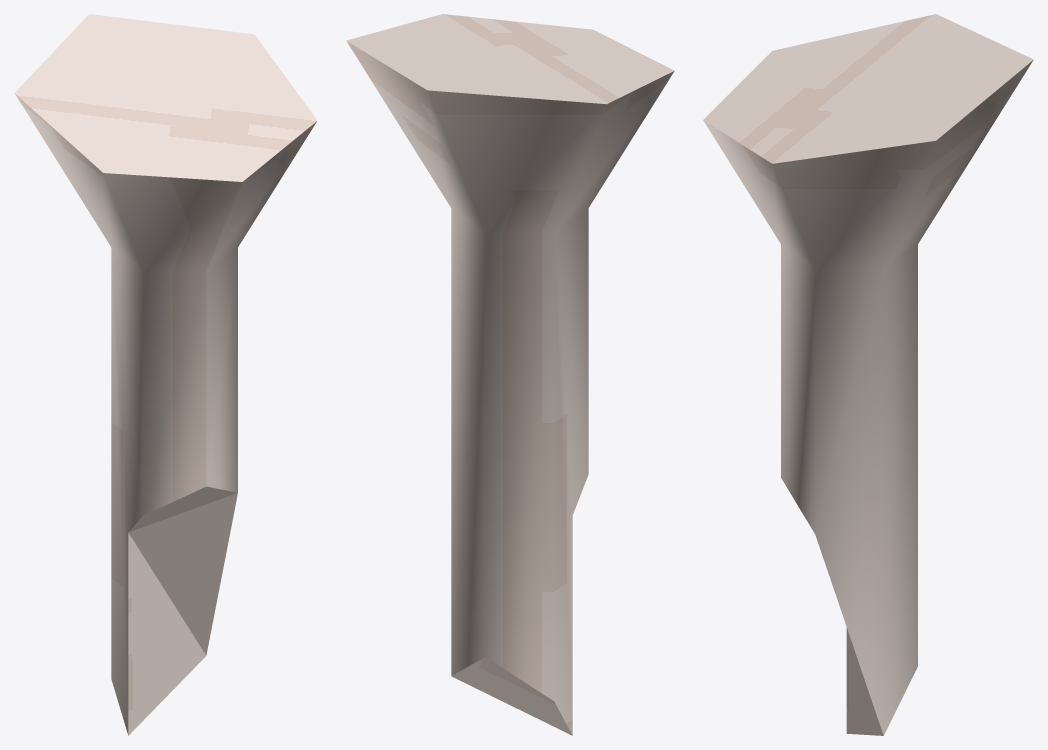
File: wine_glass_gib_05.glb
The picture shows the model from 3 angles, left to right: view 1: azimuth 30°, elevation 25°; view 2: azimuth 150°, elevation 25°; view 3: azimuth 270°, elevation 25°; orthographic projection. The views are drawn at different scales.
Parts seen in each view (by area): view 1: gib_05; view 2: gib_05; view 3: gib_05.
Boxes of the visible parts, box(x1,y1,x2,y2) form: gib_05: box(14, 14, 317, 735); gib_05: box(346, 14, 674, 735); gib_05: box(703, 14, 1033, 735).
Size of the model in its own units: 0.0728 by 0.1873 by 0.0803.
Materials: 1 (1 with a texture image).
